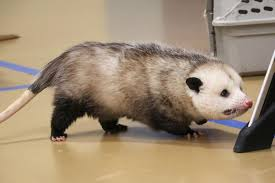opossum: (0, 40, 254, 142)
